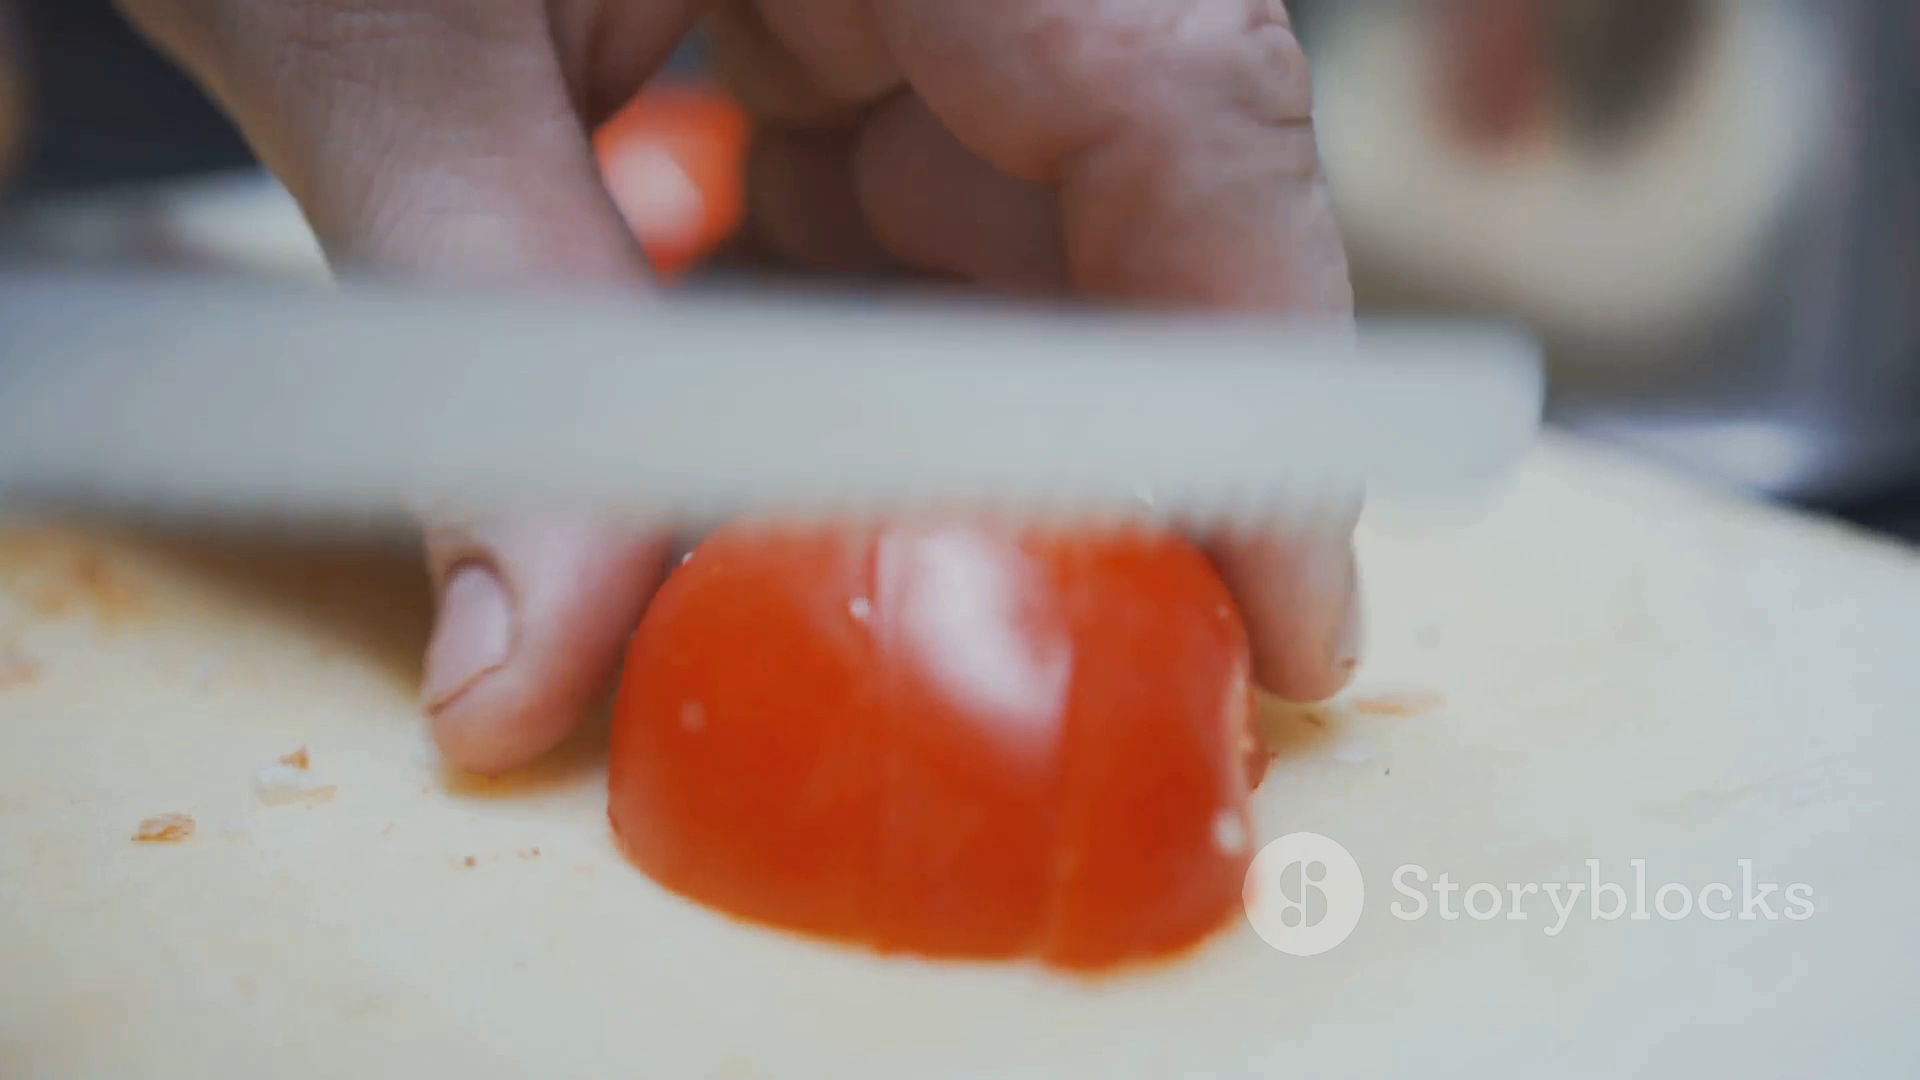cortante: (0, 281, 1547, 533)
